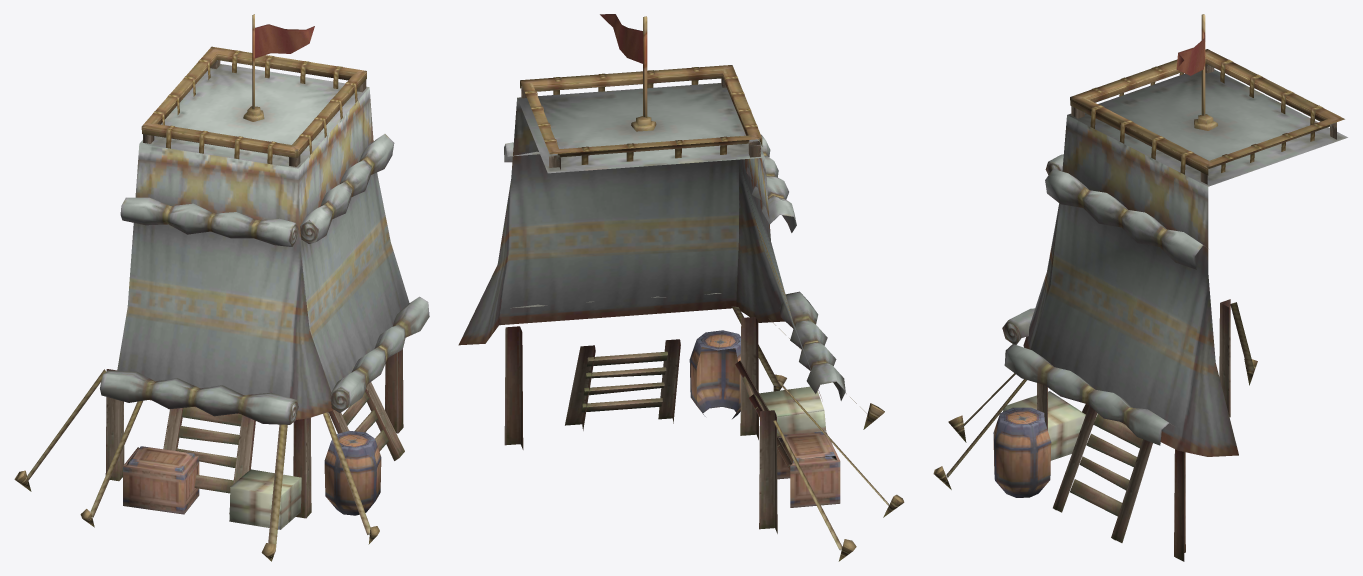
File: wujian_02.FBX
The picture shows the model from 3 angles, left to right: view 1: azimuth 30°, elevation 25°; view 2: azimuth 150°, elevation 25°; view 3: azimuth 270°, elevation 25°; orthographic projection. The views are drawn at different scales.
Visible parts, largest first — view 1: wujian_02; view 2: wujian_02; view 3: wujian_02.
Part boxes in pixels (x1,y1,x2,y2): wujian_02: (14,14,429,561); wujian_02: (458,14,904,561); wujian_02: (933,14,1347,561).
Bounding box in the file's own units: 330 × 373 × 294.
